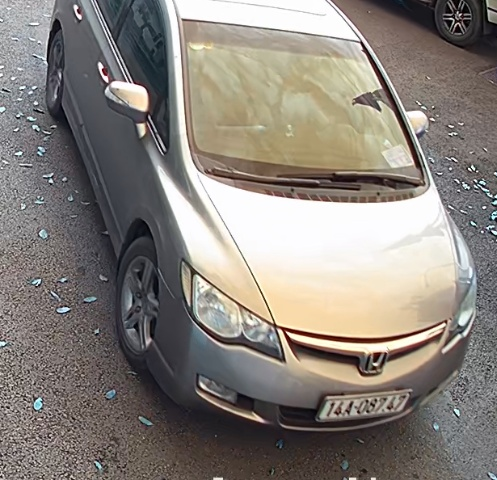vehicle plate: (314, 388, 414, 421)
